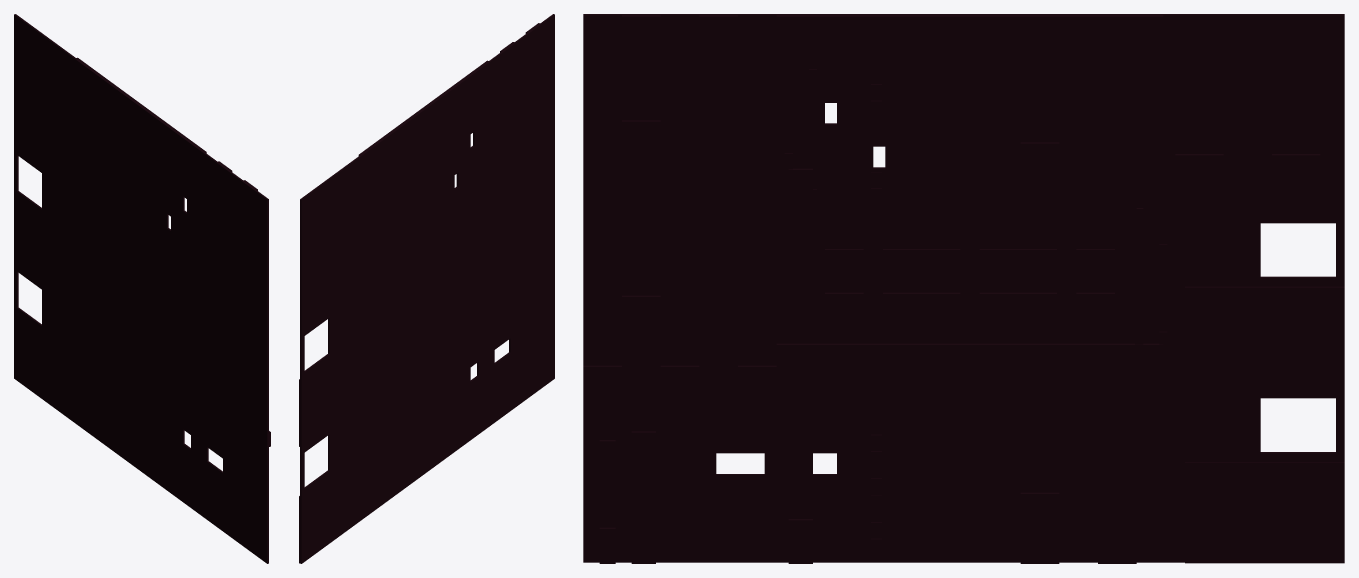
File: BigPanel_01.fbx
3 views of the same model, side by side, from view 1: azimuth 30°, elevation 25°; view 2: azimuth 150°, elevation 25°; view 3: azimuth 270°, elevation 25° (orthographic). The views are drawn at different scales.
Parts seen in each view (by area): view 1: BigPanel_01; view 2: BigPanel_01; view 3: BigPanel_01.
Boxes of the visible parts, x1,y1,x2,y2 form: BigPanel_01: (14,14,270,563); BigPanel_01: (299,14,554,563); BigPanel_01: (583,14,1344,563).
Bounding box in the file's own units: 50 × 5000 × 6300.
